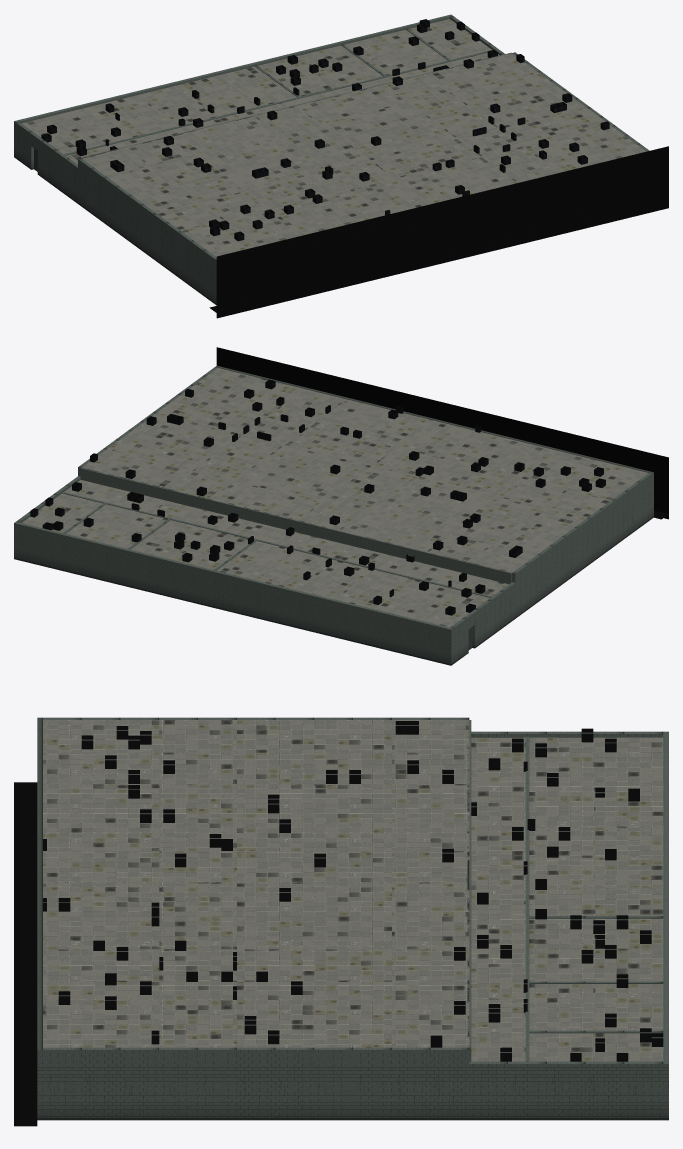
File: store_interior.glb
3 renders of one model, top to bottom at view 1: azimuth 30°, elevation 25°; view 2: azimuth 150°, elevation 25°; view 3: azimuth 270°, elevation 25°, orthographic. The views are drawn at different scales.
Visible parts, largest first — view 1: OutsideNight, Ceiling_Sales_07_03, Wall_225, Wall_224, Ceiling_Sales_08_00, Ceiling_Sales_09_04, Ceiling_Sales_06_04, Ceiling_Sales_05_04, Ceiling_Sales_00_04, Ceiling_Sales_01_01, Ceiling_Sales_07_00, Wall_223 (+79 smaller); view 2: OutsideNight, Wall_207, Wall_215, Wall_212, Wall_216, Wall_211, Wall_208, Wall_213, Wall_217, Wall_209, Wall_210, Wall_214 (+111 smaller); view 3: OutsideNight, Wall_231, Wall_232, Wall_233, Wall_234, Wall_235, Wall_236, Wall_228, Wall_229, Wall_230, Ceiling_Sales_08_04, Ceiling_Sales_03_04 (+90 smaller).
Boxes of the visible parts, x1,y1,x2,y2 form: OutsideNight: [209, 146, 668, 318]; Ceiling_Sales_07_03: [458, 124, 524, 157]; Wall_225: [146, 208, 171, 270]; Wall_224: [123, 191, 149, 253]; Ceiling_Sales_08_00: [426, 59, 493, 92]; Ceiling_Sales_09_04: [569, 121, 635, 154]; Ceiling_Sales_06_04: [441, 157, 506, 185]; Ceiling_Sales_05_04: [396, 162, 463, 196]; Ceiling_Sales_00_04: [181, 219, 248, 248]; Ceiling_Sales_01_01: [150, 155, 216, 183]; Ceiling_Sales_07_00: [383, 74, 450, 102]; Wall_223: [101, 175, 126, 236]; OutsideNight: [216, 347, 668, 519]; Wall_207: [411, 619, 452, 665]; Wall_215: [93, 541, 134, 587]; Wall_212: [212, 570, 253, 617]; Wall_216: [53, 531, 94, 578]; Wall_211: [252, 580, 293, 626]; Wall_208: [371, 609, 412, 655]; Wall_213: [173, 560, 214, 607]; Wall_217: [14, 522, 55, 568]; Wall_209: [332, 599, 372, 646]; Wall_210: [292, 589, 333, 636]; Wall_214: [133, 551, 174, 597]; OutsideNight: [14, 782, 37, 1126]; Wall_231: [398, 1047, 469, 1120]; Wall_232: [327, 1047, 398, 1120]; Wall_233: [256, 1047, 327, 1120]; Wall_234: [185, 1047, 256, 1120]; Wall_235: [114, 1047, 185, 1120]; Wall_236: [43, 1047, 113, 1120]; Wall_228: [598, 1061, 663, 1120]; Wall_229: [534, 1061, 598, 1120]; Wall_230: [469, 1061, 533, 1120]; Ceiling_Sales_08_04: [81, 973, 159, 1014]; Ceiling_Sales_03_04: [81, 809, 159, 850].
Size of what is drawn, in the model's own units: 42 by 5.5 by 33.8.
12 materials, 8 textured.
